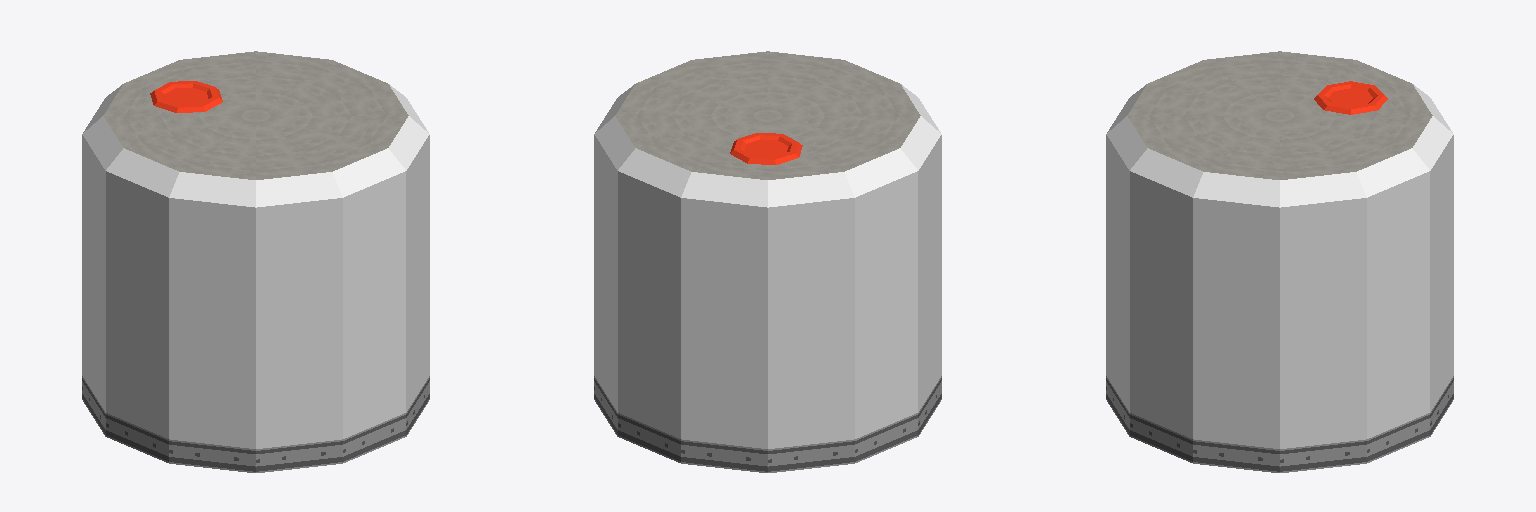
3 renders of one model, left to right at view 1: azimuth 30°, elevation 25°; view 2: azimuth 150°, elevation 25°; view 3: azimuth 270°, elevation 25°, orthographic.
Visible parts, largest first — view 1: Circle_Circle.001; view 2: Circle_Circle.001; view 3: Circle_Circle.001.
Part boxes in pixels (bbox=[...]): Circle_Circle.001: bbox=[82, 51, 429, 472]; Circle_Circle.001: bbox=[594, 51, 941, 472]; Circle_Circle.001: bbox=[1106, 51, 1453, 472].
Bounding box in the file's own units: 6 × 5.49 × 6.
Materials: 1 (1 with a texture image).